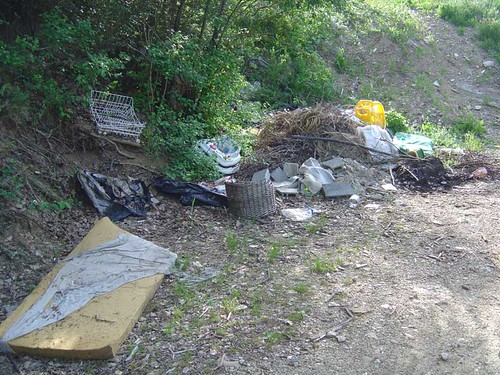trash: (100, 74, 488, 240), (1, 192, 221, 375)
vegetation: (1, 1, 346, 98)
